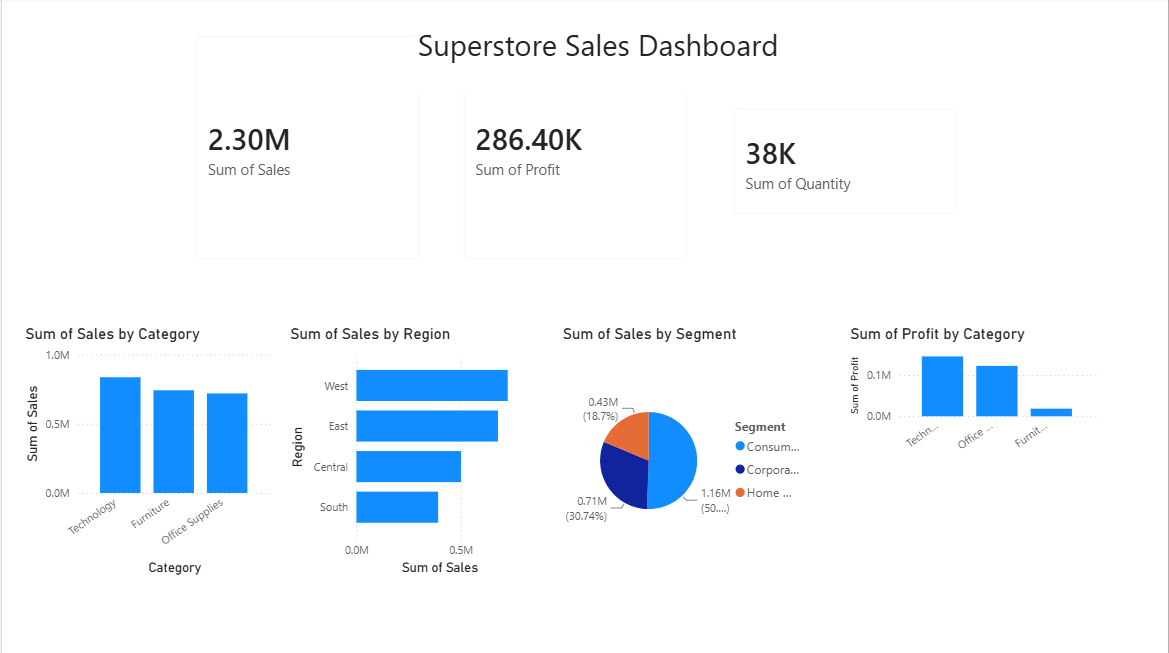

Layout of this report page (visuals, bound fields, positions):
{"tool":"powerbi","page":{"name":"Page 1","canvas":[1280,720],"ordinal":0},"visuals":[{"type":"cardVisual","fields":{"Data":["Sum(SampleSuperstore.Sales)"]},"box":[196.2,26.1,279.9,279.9],"z":0},{"type":"cardVisual","fields":{"Data":["Sum(SampleSuperstore.Profit)"]},"box":[489.9,26.1,279.9,279.9],"z":1},{"type":"cardVisual","fields":{"Data":["Sum(SampleSuperstore.Quantity)"]},"box":[786.3,105.7,279.9,150.9],"z":2},{"type":"clusteredColumnChart","fields":{"Category":["SampleSuperstore.Category"],"Y":["Sum(SampleSuperstore.Sales)"]},"box":[20.6,359.5,279.9,279.9],"z":3},{"type":"clusteredBarChart","fields":{"Category":["SampleSuperstore.Region"],"Y":["Sum(SampleSuperstore.Sales)"]},"box":[311.5,359.5,279.9,279.9],"z":4},{"type":"pieChart","fields":{"Category":["SampleSuperstore.Segment"],"Y":["Sum(SampleSuperstore.Sales)"]},"box":[610.6,359.5,279.9,279.9],"z":5},{"type":"clusteredColumnChart","fields":{"Category":["SampleSuperstore.Category"],"Y":["Sum(SampleSuperstore.Profit)"]},"box":[926.2,359.5,279.9,150.9],"z":6},{"type":"textbox","box":[926,511,280,150],"z":7},{"type":"textbox","box":[451.5,26.1,780.8,79.6],"z":8}]}

Visuals, with their boxes in screenshot pixels (x1, y1, x2, y2), scaled from the page's 1280x720 canvas onto the 1169x653 screenshot:
cardVisual - Sum(SampleSuperstore.Sales): detection(179, 24, 435, 278)
cardVisual - Sum(SampleSuperstore.Profit): detection(447, 24, 703, 278)
cardVisual - Sum(SampleSuperstore.Quantity): detection(718, 96, 974, 233)
clusteredColumnChart - SampleSuperstore.Category x Sum(SampleSuperstore.Sales): detection(19, 326, 274, 580)
clusteredBarChart - SampleSuperstore.Region x Sum(SampleSuperstore.Sales): detection(284, 326, 540, 580)
pieChart - SampleSuperstore.Segment x Sum(SampleSuperstore.Sales): detection(558, 326, 813, 580)
clusteredColumnChart - SampleSuperstore.Category x Sum(SampleSuperstore.Profit): detection(846, 326, 1102, 463)
textbox: detection(846, 463, 1101, 599)
textbox: detection(412, 24, 1125, 96)
